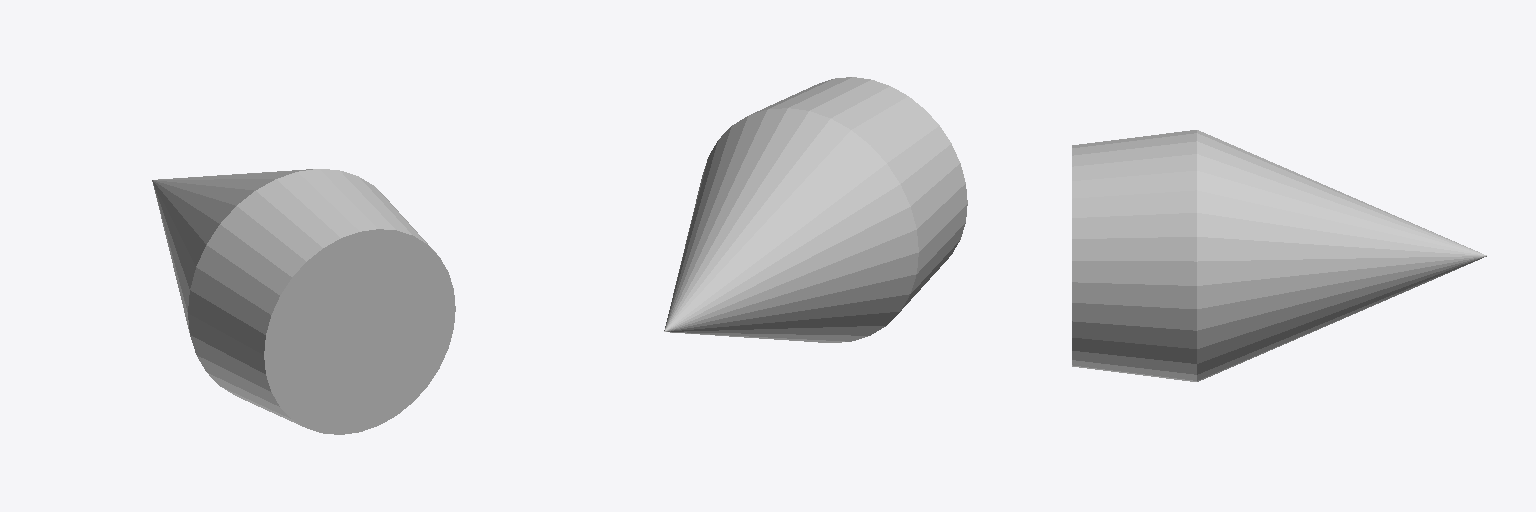
File: boostFire.obj
3 views of the same model, side by side, from view 1: azimuth 30°, elevation 25°; view 2: azimuth 150°, elevation 25°; view 3: azimuth 270°, elevation 25° (orthographic).
Visible parts, largest first — view 1: 円錐; view 2: 円錐; view 3: 円錐.
Part boxes in pixels (x1,y1,x2,y2): 円錐: (152, 169, 455, 434); 円錐: (664, 77, 967, 342); 円錐: (1072, 130, 1486, 381).
Size of the model in its own units: 1.6 by 1.6 by 2.63.